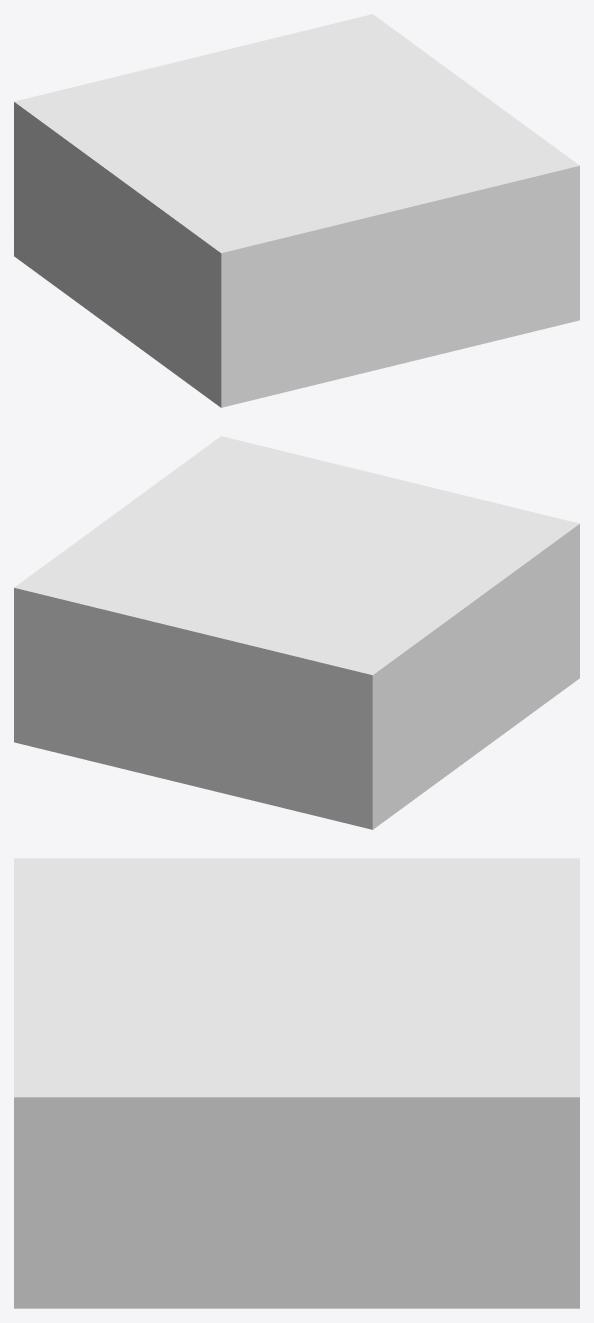
File: sl_hacker_armor__head.glb
The picture shows the model from 3 angles, top to bottom: view 1: azimuth 30°, elevation 25°; view 2: azimuth 150°, elevation 25°; view 3: azimuth 270°, elevation 25°; orthographic projection. The views are drawn at different scales.
Parts seen in each view (by area): view 1: bb_hacker_armor; view 2: bb_hacker_armor; view 3: bb_hacker_armor.
Boxes of the visible parts, bbox=[...] form: bb_hacker_armor: bbox=[14, 14, 579, 407]; bb_hacker_armor: bbox=[14, 436, 579, 829]; bb_hacker_armor: bbox=[14, 858, 579, 1308].
Bounding box in the file's own units: 0.5312 × 0.2188 × 0.5312.
1 material, 1 textured.
